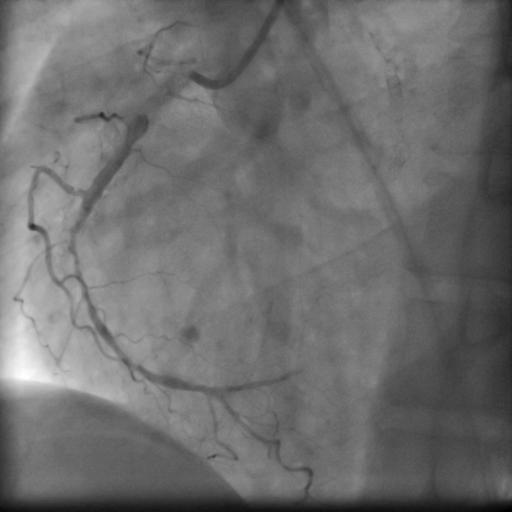Stenosis: (142, 87, 164, 120)
